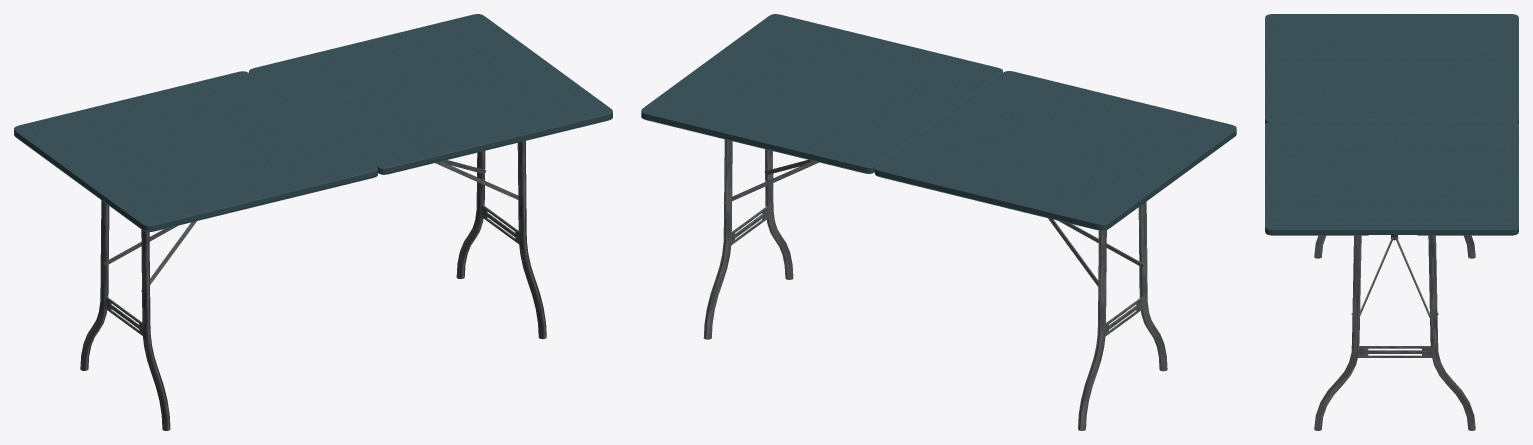
The model's file is office_table..glb.
3 views of the same model, side by side, from view 1: azimuth 30°, elevation 25°; view 2: azimuth 150°, elevation 25°; view 3: azimuth 270°, elevation 25° (orthographic). The views are drawn at different scales.
Visible parts, largest first — view 1: Subdivision_Surface_1, Subdivision_Surface_2, object 20, object 17, object 19, object 18, object 15, object 5; view 2: Subdivision_Surface_1, Subdivision_Surface_2, object 19, object 18, object 20, object 17, object 15, object 5; view 3: Subdivision_Surface_2, Subdivision_Surface_1, object 18, object 17, object 9, object 5.
Part boxes in pixels (bbox=[...]): Subdivision_Surface_1: bbox=[14, 71, 377, 232]; Subdivision_Surface_2: bbox=[249, 14, 612, 174]; object 20: bbox=[141, 229, 170, 430]; object 17: bbox=[517, 141, 546, 339]; object 19: bbox=[80, 200, 109, 370]; object 18: bbox=[456, 151, 485, 278]; object 15: bbox=[103, 221, 196, 291]; object 5: bbox=[435, 160, 518, 199]; Subdivision_Surface_1: bbox=[875, 71, 1236, 230]; Subdivision_Surface_2: bbox=[641, 14, 1002, 173]; object 19: bbox=[1078, 230, 1106, 430]; object 18: bbox=[703, 139, 732, 339]; object 20: bbox=[1138, 201, 1167, 371]; object 17: bbox=[765, 149, 793, 279]; object 15: bbox=[1048, 218, 1143, 286]; object 5: bbox=[732, 159, 818, 201]; Subdivision_Surface_2: bbox=[1265, 121, 1518, 235]; Subdivision_Surface_1: bbox=[1265, 14, 1518, 124]; object 18: bbox=[1428, 235, 1475, 430]; object 17: bbox=[1314, 235, 1361, 430]; object 9: bbox=[1358, 346, 1431, 357]; object 5: bbox=[1358, 237, 1430, 317].
Size of the model in its own units: 4.01 by 1.93 by 2.
Materials: 3 (3 with a texture image).
